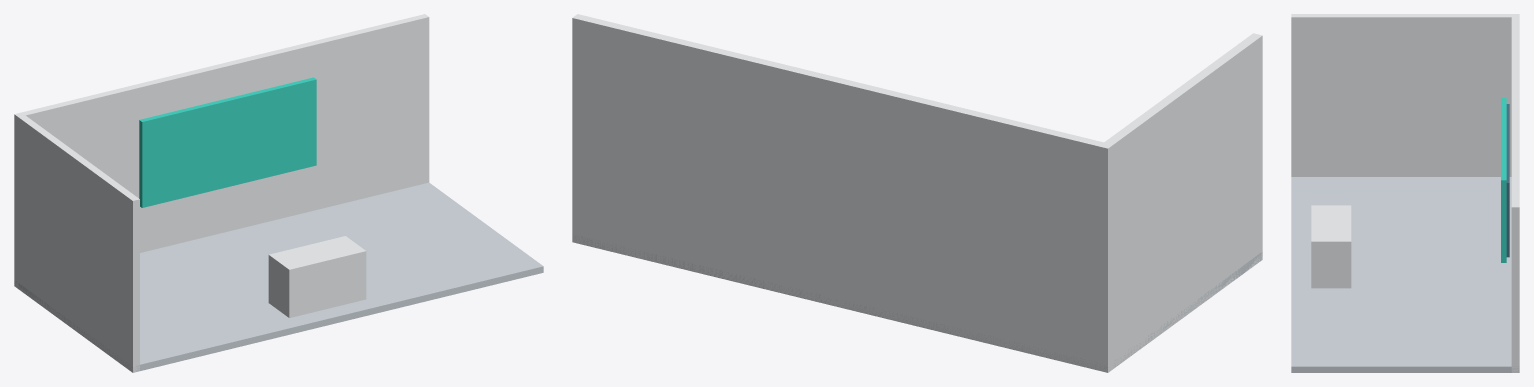
3 renders of one model, left to right at view 1: azimuth 30°, elevation 25°; view 2: azimuth 150°, elevation 25°; view 3: azimuth 270°, elevation 25°, orthographic. The views are drawn at different scales.
Visible parts, largest first — view 1: Exhibition Booth Concept; view 2: Exhibition Booth Concept; view 3: Exhibition Booth Concept.
Boxes of the visible parts, x1,y1,x2,y2 form: Exhibition Booth Concept: (14, 14, 543, 372); Exhibition Booth Concept: (572, 14, 1262, 372); Exhibition Booth Concept: (1291, 14, 1519, 372).
Bounding box in the file's own units: 8 × 3.2 × 4.
